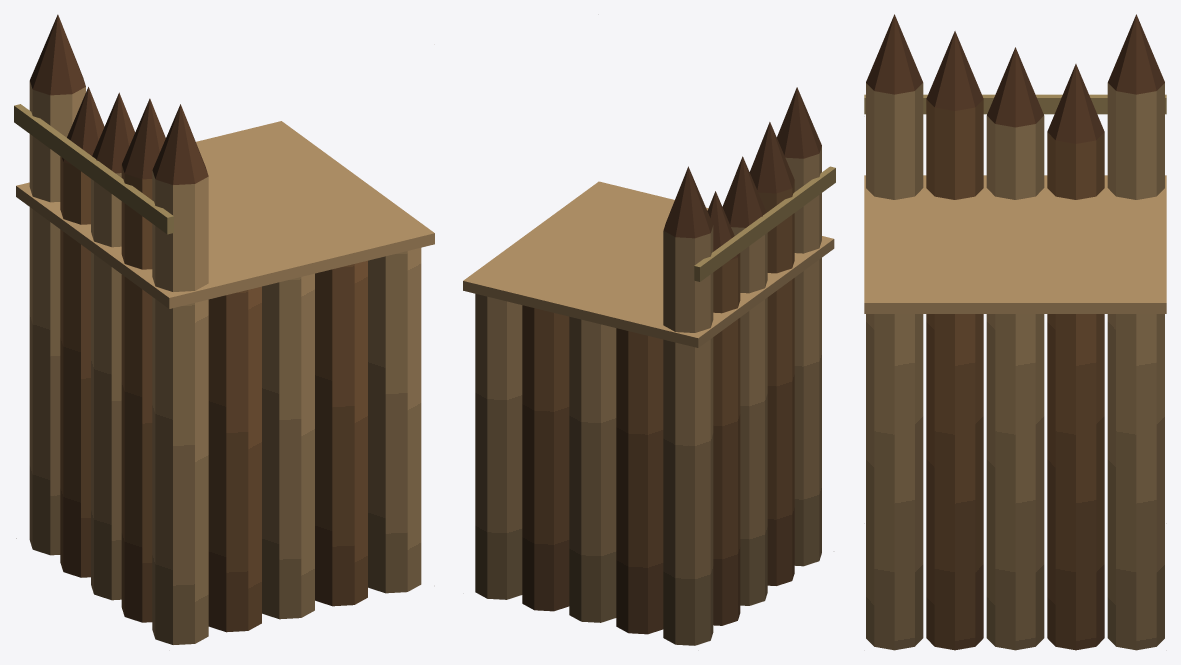
The model's file is perimeter_wall_wood_f7.glb.
3 renders of one model, left to right at view 1: azimuth 30°, elevation 25°; view 2: azimuth 150°, elevation 25°; view 3: azimuth 270°, elevation 25°, orthographic. The views are drawn at different scales.
Bounding box in the file's own units: 2.01 × 3.9 × 2.
1 material, 1 textured.
